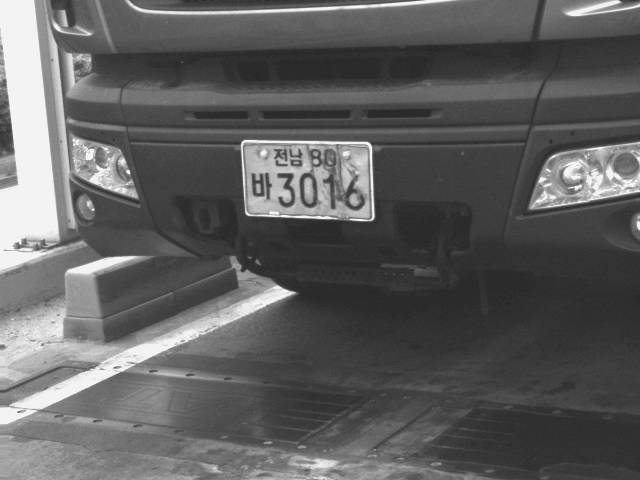car: (45, 1, 638, 324)
plate: (240, 138, 376, 221)
